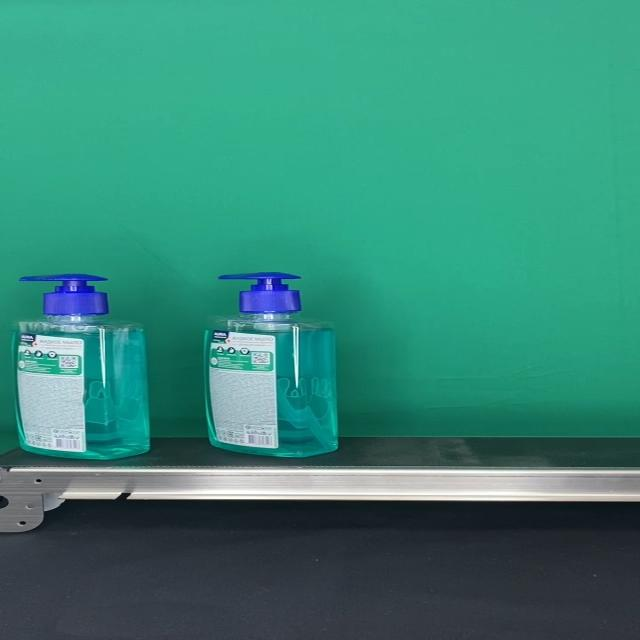Bottle: (11, 274, 150, 459), (203, 272, 339, 458)
Cap: (20, 274, 110, 316), (217, 273, 299, 315)
